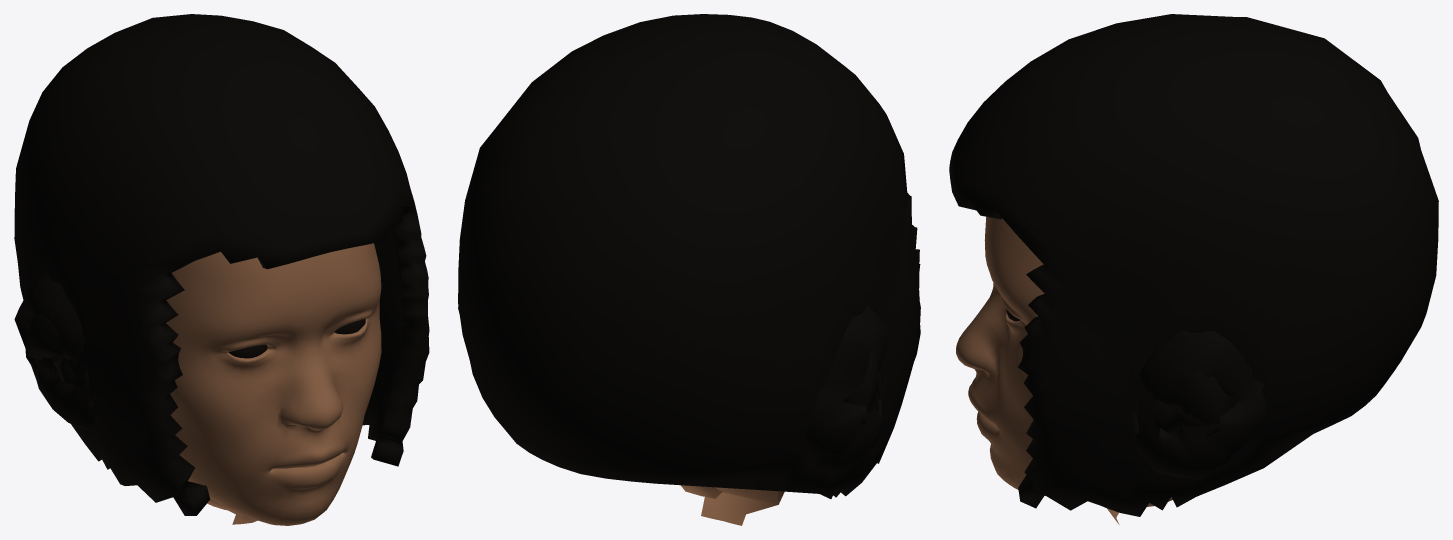
Rendered from SM_Part_M3_head.gltf.
3 renders of one model, left to right at view 1: azimuth 30°, elevation 25°; view 2: azimuth 150°, elevation 25°; view 3: azimuth 270°, elevation 25°, orthographic. The views are drawn at different scales.
Visible parts, largest first — view 1: SM_Part_M3_head; view 2: SM_Part_M3_head; view 3: SM_Part_M3_head.
Part boxes in pixels (<box>): SM_Part_M3_head: <box>14,14,429,525</box>; SM_Part_M3_head: <box>458,14,920,525</box>; SM_Part_M3_head: <box>949,14,1438,524</box>.
Bounding box in the file's own units: 0.2254 × 0.2697 × 0.2477.
